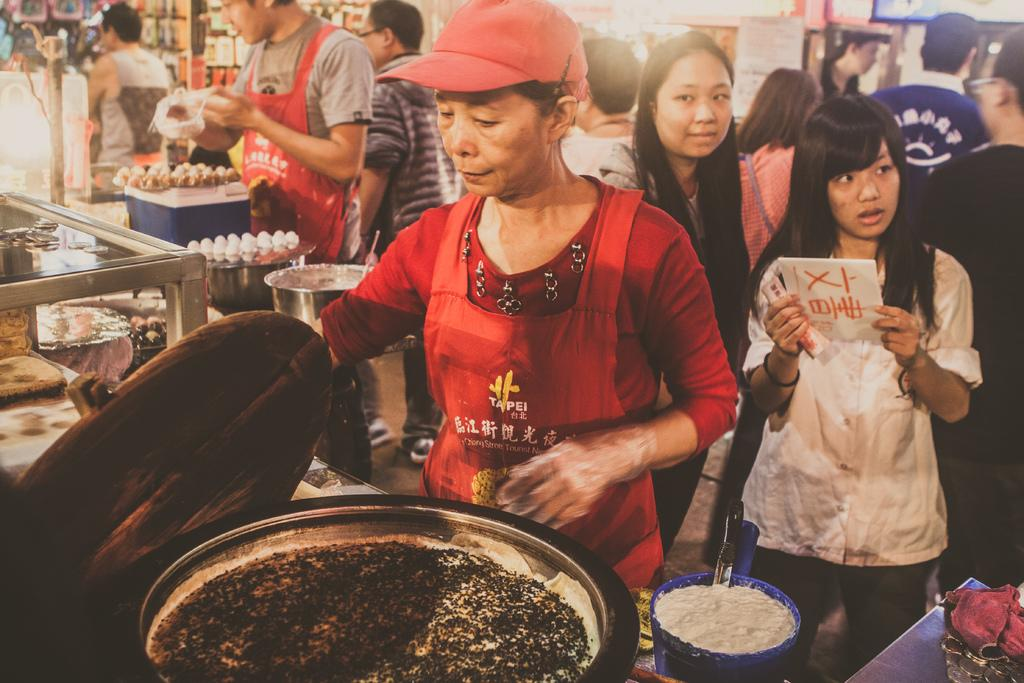Hat: (371, 0, 589, 105)
